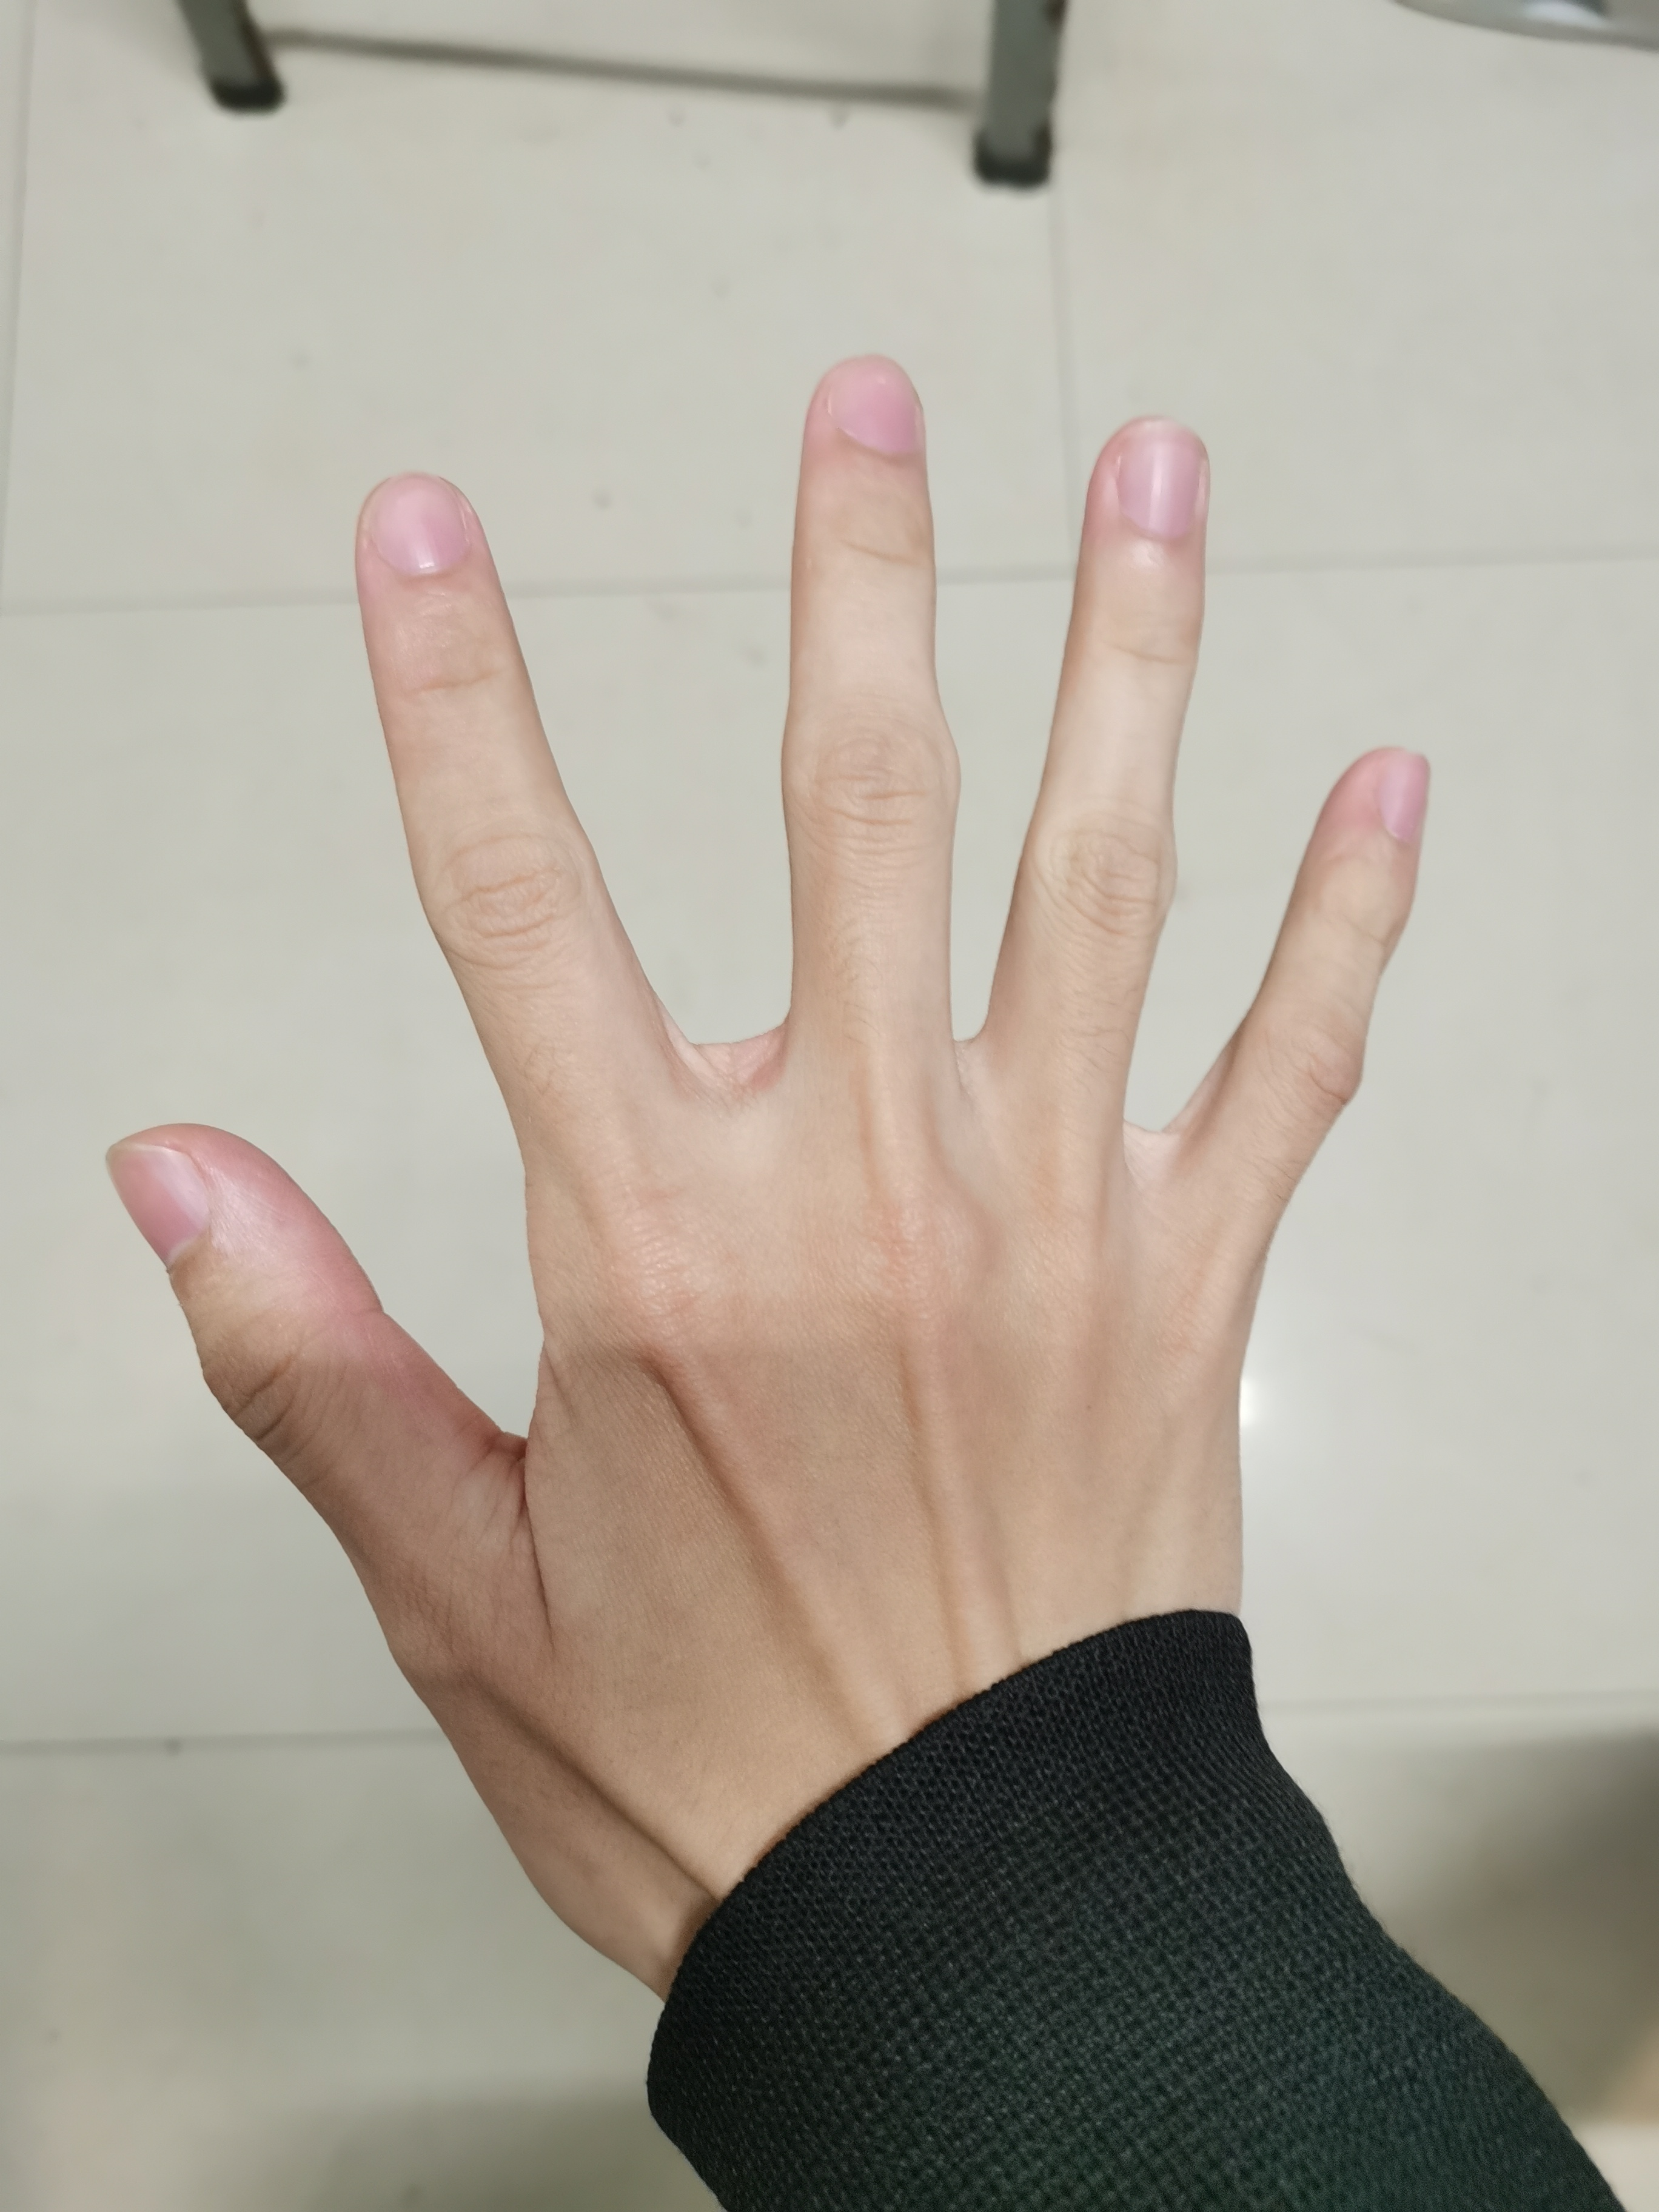no-phone: (101, 326, 1450, 1959)
